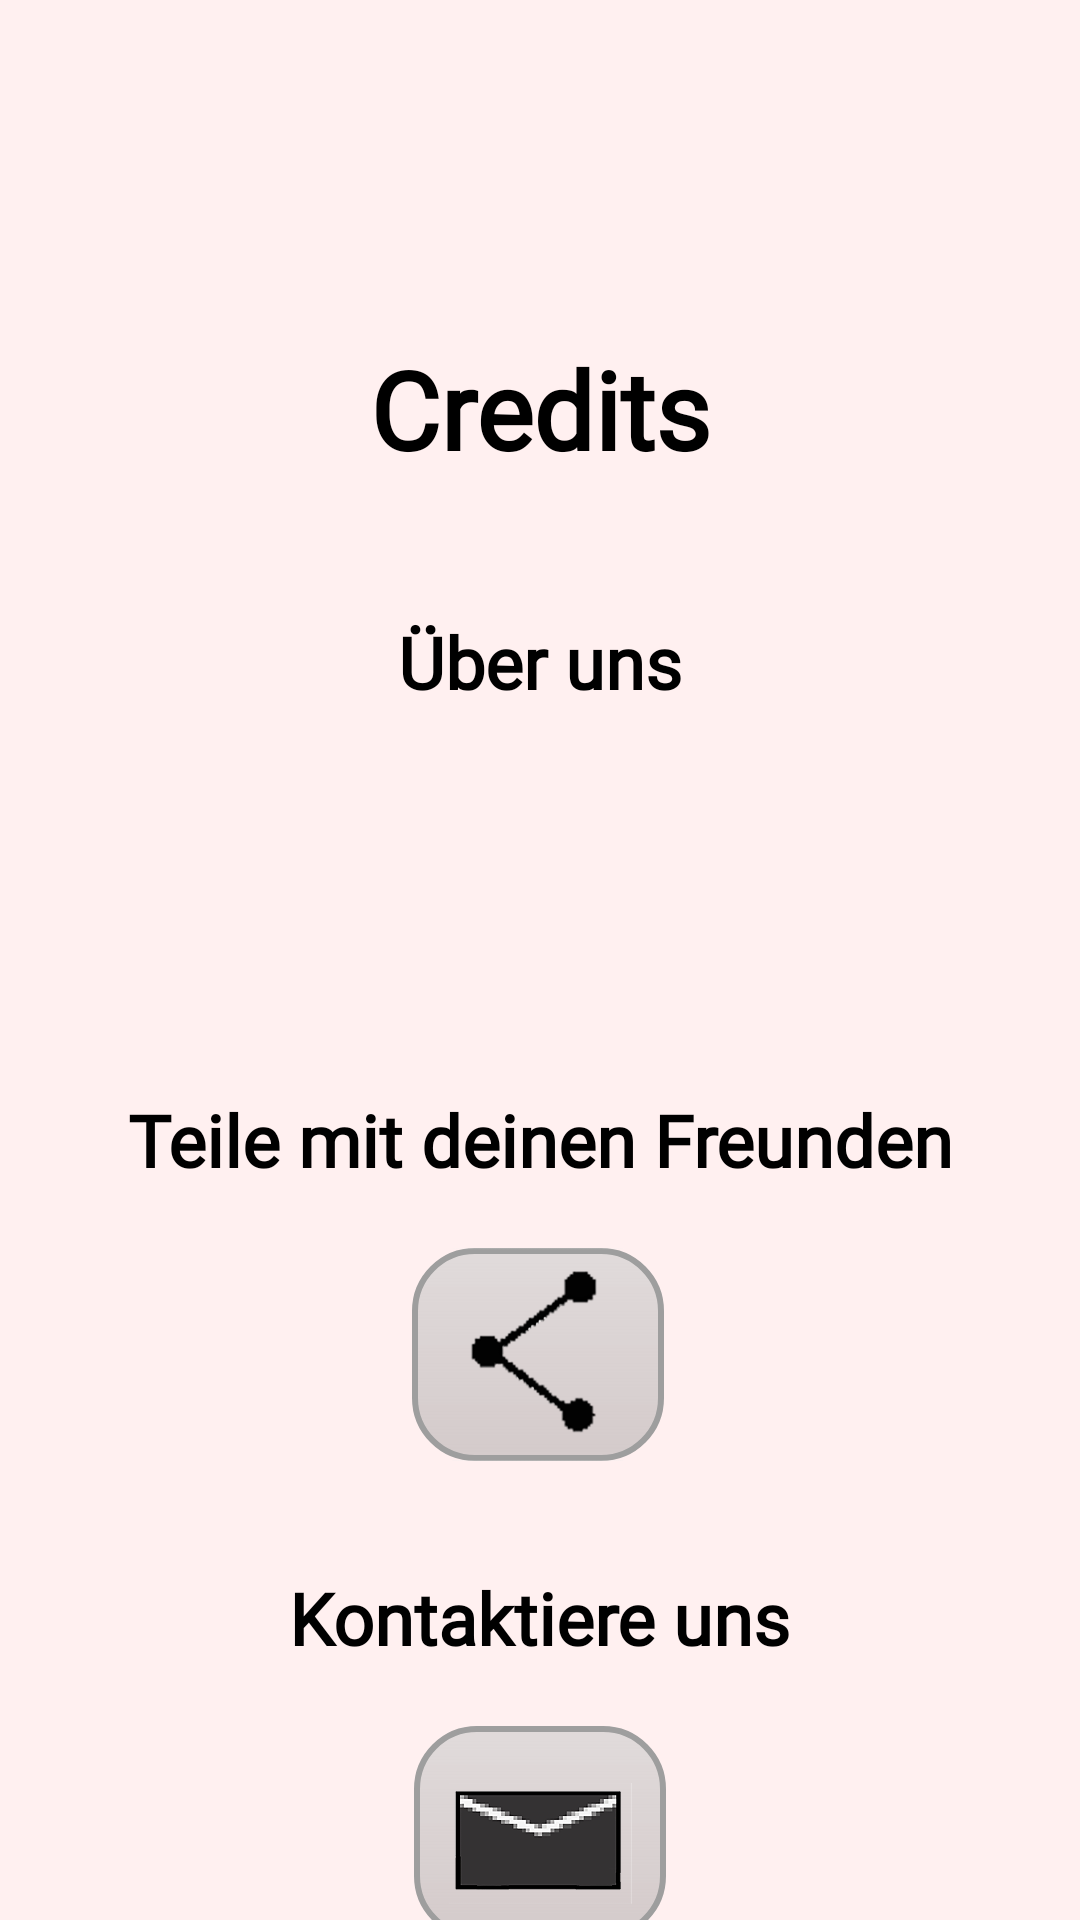

Locate icon controls on the screen. Image size 1080w x 1920h, boxes as (x1=x1, y1=y1, x2=x2, y2=y2).
pixel mail: (x1=414, y1=1726, x2=666, y2=1920)
pixel teilen: (x1=412, y1=1248, x2=664, y2=1461)
